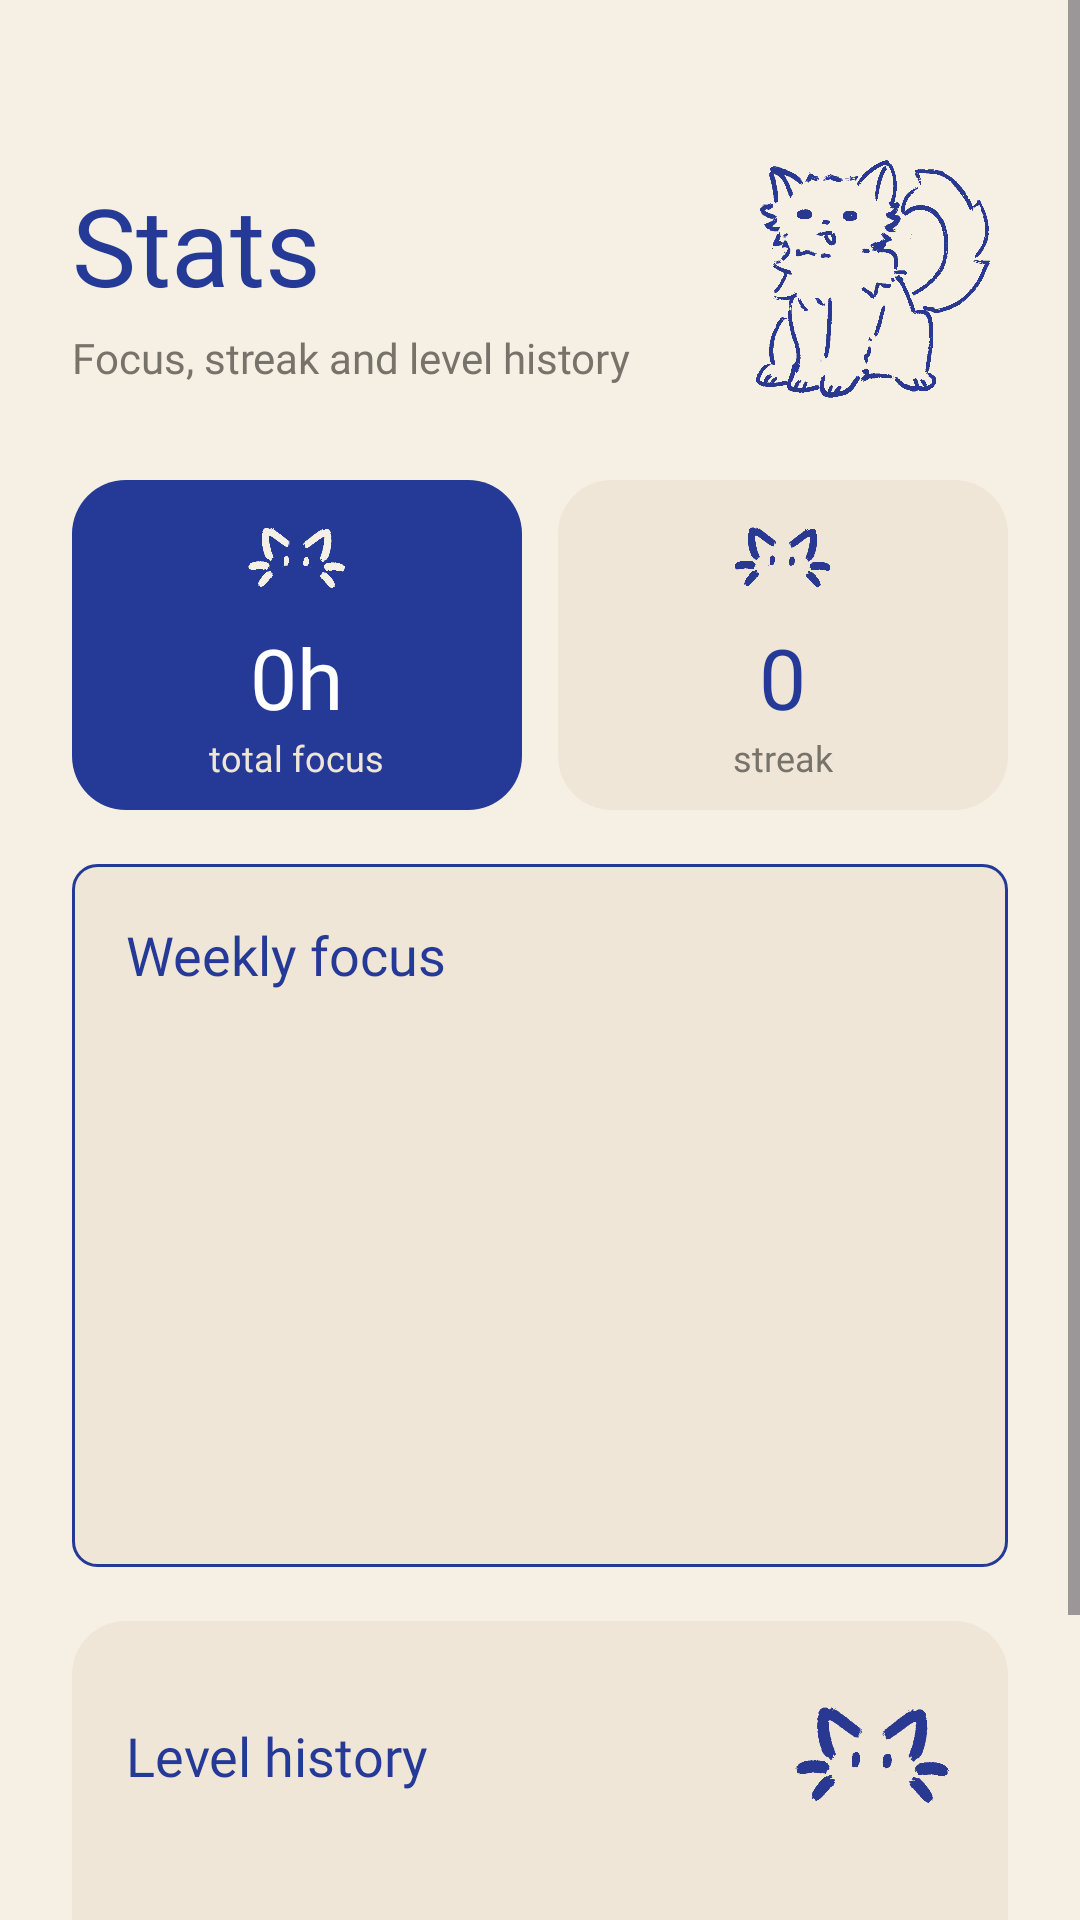

Where icons sit on this 1080w x 1920h app screen, as (x1, y1, x2, y2):
silly cat fit: (756, 160, 990, 398)
